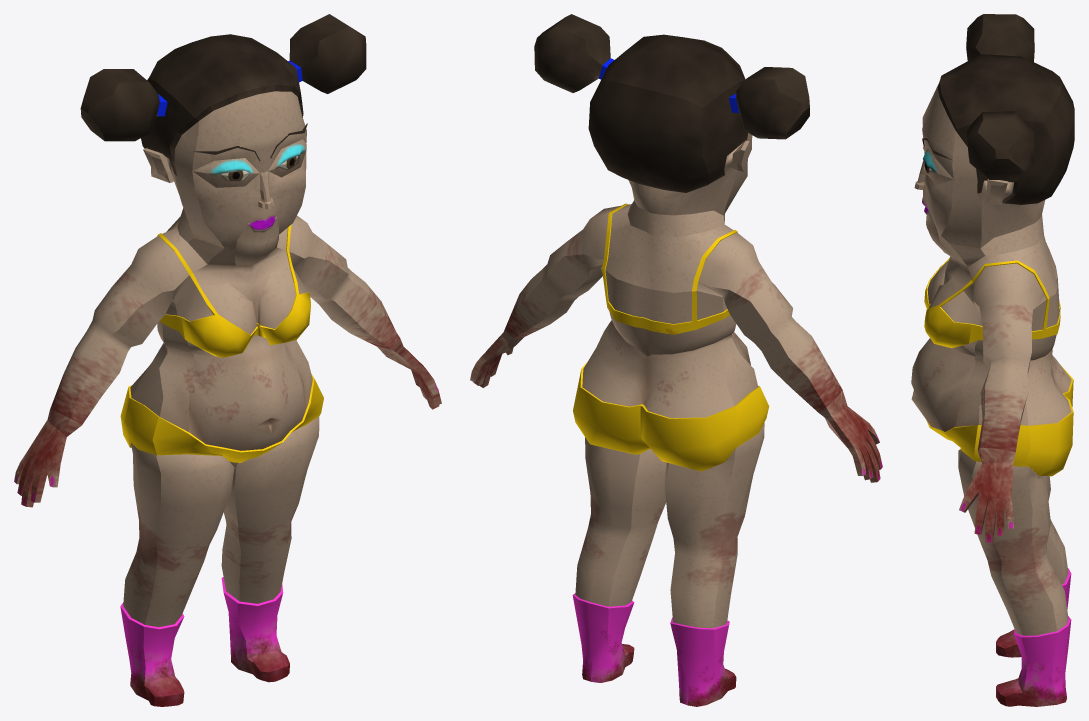
File: fathoe.FBX
3 views of the same model, side by side, from view 1: azimuth 30°, elevation 25°; view 2: azimuth 150°, elevation 25°; view 3: azimuth 270°, elevation 25° (orthographic). The views are drawn at different scales.
Visible parts, largest first — view 1: camp_daughter_skin002; view 2: camp_daughter_skin002; view 3: camp_daughter_skin002.
Part boxes in pixels (<box>): camp_daughter_skin002: <box>14,14,441,706</box>; camp_daughter_skin002: <box>470,14,882,706</box>; camp_daughter_skin002: <box>911,14,1074,706</box>.
Size of the model in its own units: 49.06 by 73 by 17.71.
